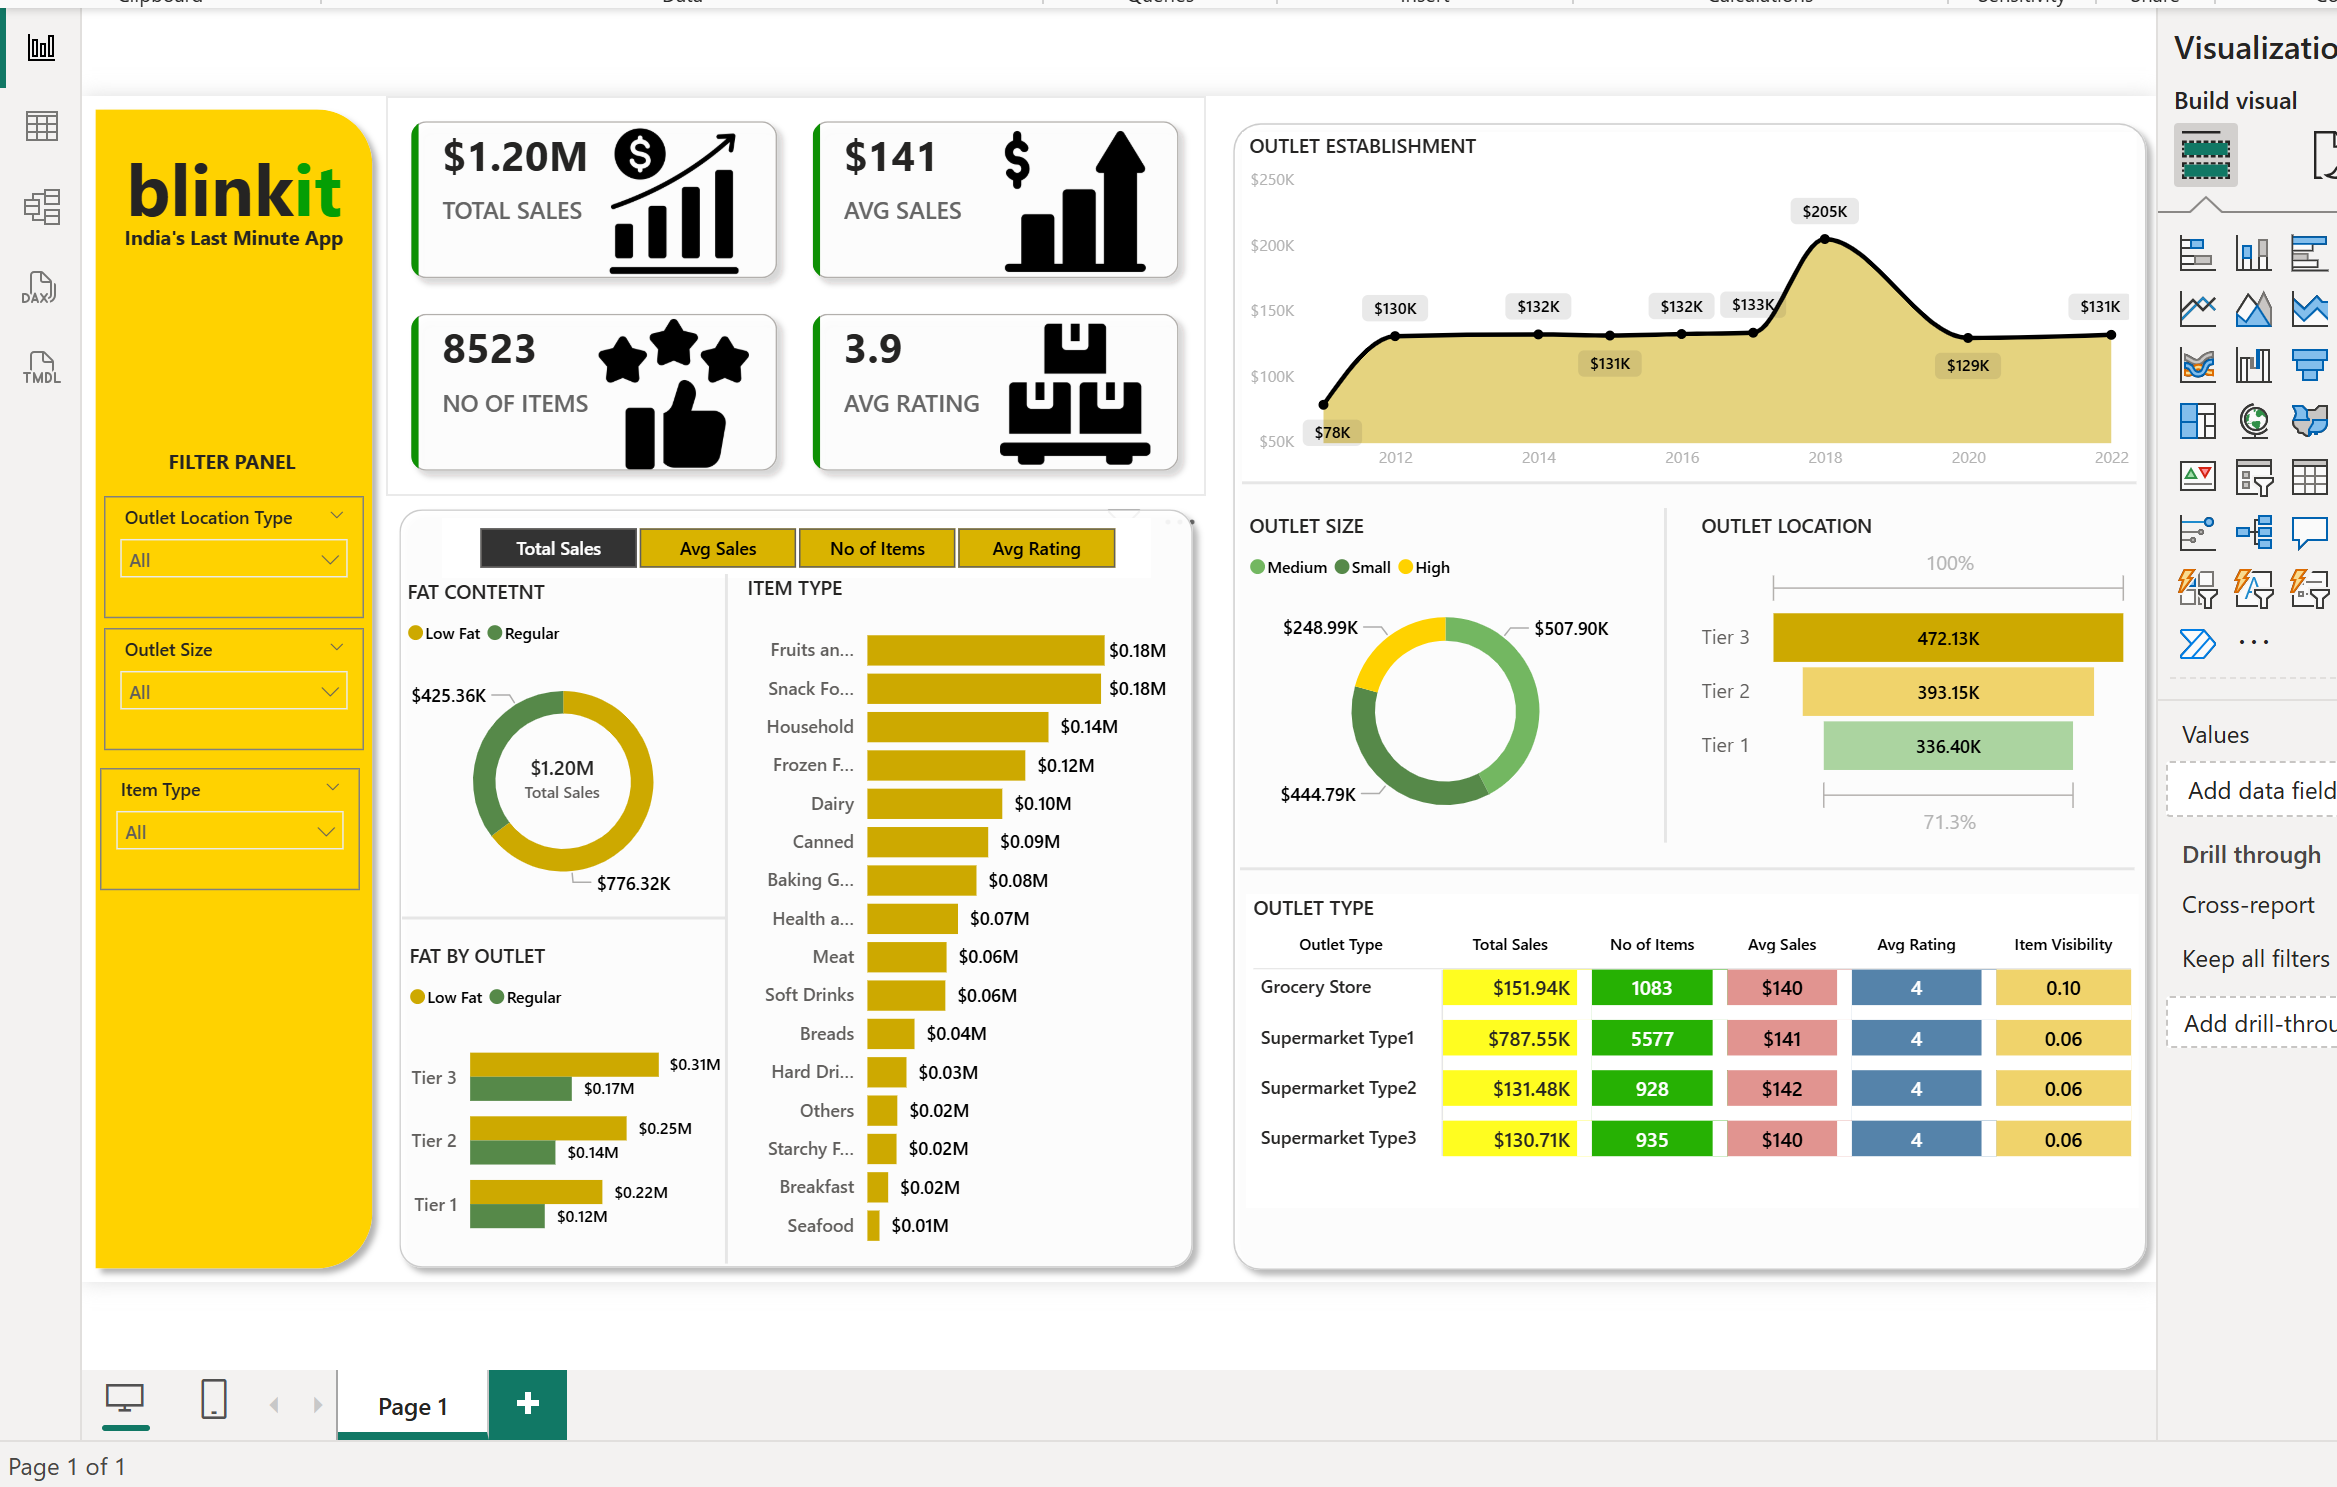

The page's visual inventory and layout, read from the dashboard file:
{"tool":"powerbi","page":{"name":"Page 1","canvas":[1400,800],"ordinal":0},"visuals":[{"type":"shape","box":[0,0,205,800.4],"z":0},{"type":"textbox","box":[14.9,24.3,175.5,75.6],"z":1000},{"type":"textbox","box":[0,80.9,205,37.6],"z":2000},{"type":"cardVisual","fields":{"Data":["BlinkIT Grocery Data.Total Sales","BlinkIT Grocery Data.Avg Sales","BlinkIT Grocery Data.No of Items","BlinkIT Grocery Data.Avg Rating"]},"box":[205,0,553.6,270.5],"z":3000},{"type":"shape","box":[205,270.5,553.6,529.9],"z":4000},{"type":"donutChart","title":"FAT CONTETNT","fields":{"Y":["BlinkIT Grocery Data.Total Sales"],"Category":["BlinkIT Grocery Data.Item Fat Content"]},"box":[214.7,324.9,220.3,230.1],"z":5000},{"type":"slicer","fields":{"Values":["Metrics.Metrics"]},"box":[242.6,284.5,478.3,40.4],"z":6000},{"type":"cardVisual","fields":{"Data":["BlinkIT Grocery Data.Total Sales"]},"box":[274.7,416.9,100.4,86.5],"z":7000},{"type":"clusteredBarChart","title":"FAT BY OUTLET","fields":{"Y":["BlinkIT Grocery Data.Total Sales"],"Category":["BlinkIT Grocery Data.Outlet Location Type"],"Series":["BlinkIT Grocery Data.Item Fat Content"]},"box":[216,571.1,220.1,217.4],"z":8000},{"type":"shape","box":[216,538.7,220.1,32.4],"z":9000},{"type":"shape","box":[425.3,322.1,19.5,465.7],"z":10000},{"type":"barChart","title":"ITEM TYPE","fields":{"Y":["BlinkIT Grocery Data.Total Sales"],"Category":["BlinkIT Grocery Data.Item Type"]},"box":[444.8,322.1,292.8,465.7],"z":11000},{"type":"shape","box":[768.3,9.8,634.5,792],"z":12000},{"type":"lineChart","title":"OUTLET ESTABLISHMENT","fields":{"Y":["BlinkIT Grocery Data.Total Sales"],"Category":["BlinkIT Grocery Data.Outlet Establishment Year"]},"box":[783.7,23.7,603.8,237.1],"z":13000},{"type":"shape","box":[783.7,244,603.8,33.5],"z":14000},{"type":"donutChart","title":"OUTLET SIZE","fields":{"Y":["BlinkIT Grocery Data.Total Sales"],"Category":["BlinkIT Grocery Data.Outlet Size"]},"box":[783.7,280.3,274.7,224.5],"z":15000},{"type":"shape","box":[1058.4,277.5,20.9,225.9],"z":16000},{"type":"funnel","title":"OUTLET LOCATION","fields":{"Y":["Sum(BlinkIT Grocery Data.Sales)"],"Category":["BlinkIT Grocery Data.Outlet Location Type"]},"box":[1087.6,280.3,299.8,224.5],"z":17000},{"type":"shape","box":[782.3,504.8,603.8,33.5],"z":18000},{"type":"pivotTable","title":"OUTLET TYPE","fields":{"Rows":["BlinkIT Grocery Data.Outlet Type"],"Values":["BlinkIT Grocery Data.Total Sales","BlinkIT Grocery Data.No of Items","BlinkIT Grocery Data.Avg Sales","BlinkIT Grocery Data.Avg Rating","Avg(BlinkIT Grocery Data.Item Visibility)"]},"box":[785.1,538.2,602.4,212],"z":19000},{"type":"slicer","fields":{"Values":["BlinkIT Grocery Data.Outlet Location Type"]},"box":[15.3,270.5,175.7,82.3],"z":20000},{"type":"slicer","fields":{"Values":["BlinkIT Grocery Data.Outlet Size"]},"box":[15.3,359.8,175.7,82.3],"z":21000},{"type":"slicer","fields":{"Values":["BlinkIT Grocery Data.Item Type"]},"box":[12.5,453.2,175.7,82.3],"z":22000},{"type":"textbox","box":[14.9,232.2,172.8,31.1],"z":22001}]}

Visuals, with their boxes on the page's 1400x800 design canvas (x1, y1, x2, y2). These are canvas units, not pixel positions in the 2337x1487 screenshot, which may show the page scaled, cropped or inside an application window:
shape: crop(0, 0, 205, 800)
textbox: crop(15, 24, 190, 100)
textbox: crop(0, 81, 205, 118)
cardVisual - BlinkIT Grocery Data.Total Sales x BlinkIT Grocery Data.Avg Sales: crop(205, 0, 759, 270)
shape: crop(205, 270, 759, 800)
"FAT CONTETNT" donutChart: crop(215, 325, 435, 555)
slicer - Metrics.Metrics: crop(243, 284, 721, 325)
cardVisual - BlinkIT Grocery Data.Total Sales: crop(275, 417, 375, 503)
"FAT BY OUTLET" clusteredBarChart: crop(216, 571, 436, 788)
shape: crop(216, 539, 436, 571)
shape: crop(425, 322, 445, 788)
"ITEM TYPE" barChart: crop(445, 322, 738, 788)
shape: crop(768, 10, 1403, 802)
"OUTLET ESTABLISHMENT" lineChart: crop(784, 24, 1388, 261)
shape: crop(784, 244, 1388, 278)
"OUTLET SIZE" donutChart: crop(784, 280, 1058, 505)
shape: crop(1058, 278, 1079, 503)
"OUTLET LOCATION" funnel: crop(1088, 280, 1387, 505)
shape: crop(782, 505, 1386, 538)
"OUTLET TYPE" pivotTable: crop(785, 538, 1388, 750)
slicer - BlinkIT Grocery Data.Outlet Location Type: crop(15, 270, 191, 353)
slicer - BlinkIT Grocery Data.Outlet Size: crop(15, 360, 191, 442)
slicer - BlinkIT Grocery Data.Item Type: crop(12, 453, 188, 536)
textbox: crop(15, 232, 188, 263)
